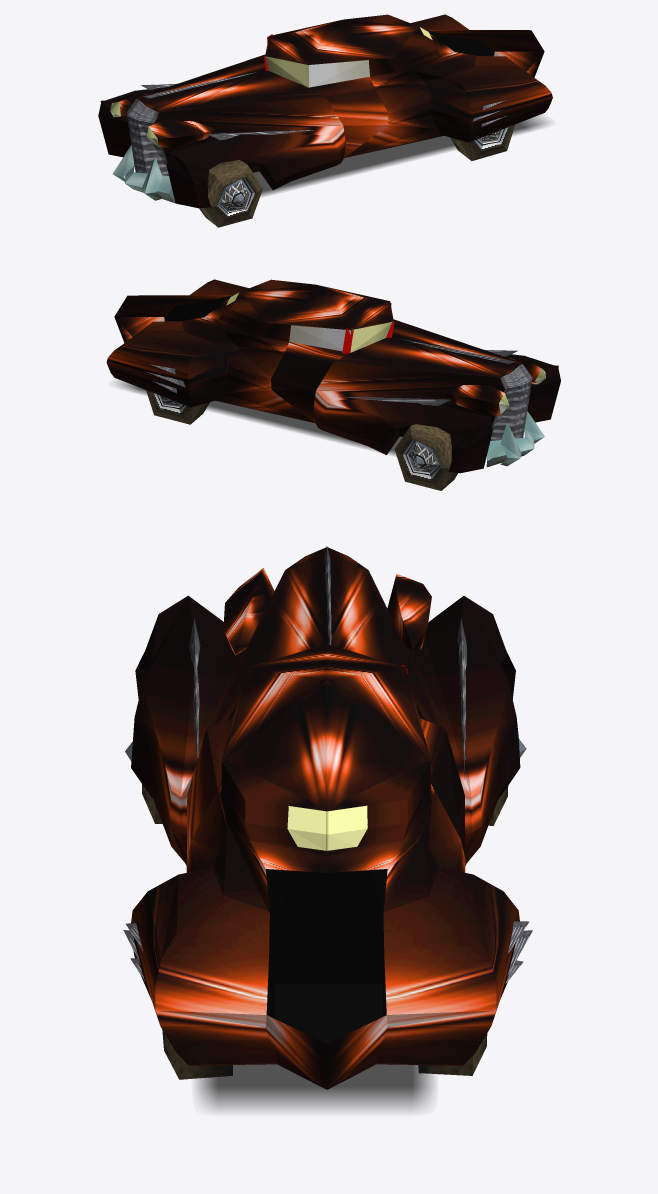
The model's file is limosine_1_new [Copy 2]_2844.glb.
3 views of the same model, one above another, from view 1: azimuth 30°, elevation 25°; view 2: azimuth 150°, elevation 25°; view 3: azimuth 270°, elevation 25° (orthographic). The views are drawn at different scales.
Visible parts, largest first — view 1: polySurfaceShape65, polySurfaceShape67, pPlaneShape2, vrlShape, polySurfaceShape66, pSphereShape14, hrlShape, pPlaneShape1, polySurfaceShape43, polySurfaceShape41, pSphereShape12, polySurfaceShape42 (+1 smaller); view 2: polySurfaceShape65, polySurfaceShape68, vrrShape, pPlaneShape2, polySurfaceShape66, pSphereShape12, hrrShape, pPlaneShape1, polySurfaceShape43, polySurfaceShape42, pConeShape2, pConeShape1 (+1 smaller); view 3: polySurfaceShape65, pPlaneShape1, pPlaneShape2, polySurfaceShape67, polySurfaceShape68, pSphereShape14, pSphereShape12, hrlShape.
Boxes of the visible parts, left/top/right/bottom form: polySurfaceShape65: left=98, top=14, right=552, bottom=208; polySurfaceShape67: left=308, top=60, right=388, bottom=157; pPlaneShape2: left=253, top=115, right=548, bottom=196; vrlShape: left=199, top=160, right=262, bottom=227; polySurfaceShape66: left=426, top=30, right=543, bottom=51; pSphereShape14: left=146, top=120, right=216, bottom=148; hrlShape: left=450, top=124, right=515, bottom=160; pPlaneShape1: left=426, top=30, right=494, bottom=56; polySurfaceShape43: left=125, top=163, right=175, bottom=203; polySurfaceShape41: left=141, top=157, right=162, bottom=200; pSphereShape12: left=110, top=93, right=147, bottom=117; polySurfaceShape42: left=113, top=145, right=134, bottom=181; polySurfaceShape65: left=106, top=279, right=560, bottom=473; polySurfaceShape68: left=271, top=325, right=350, bottom=422; vrrShape: left=394, top=424, right=457, bottom=490; pPlaneShape2: left=116, top=380, right=402, bottom=455; polySurfaceShape66: left=114, top=295, right=233, bottom=316; pSphereShape12: left=444, top=385, right=509, bottom=416; hrrShape: left=146, top=390, right=209, bottom=424; pPlaneShape1: left=164, top=295, right=232, bottom=321; polySurfaceShape43: left=486, top=430, right=534, bottom=467; polySurfaceShape42: left=500, top=422, right=521, bottom=466; pConeShape2: left=338, top=396, right=450, bottom=405; pConeShape1: left=400, top=338, right=515, bottom=363; polySurfaceShape65: left=131, top=547, right=520, bottom=1089; pPlaneShape1: left=265, top=869, right=387, bottom=1043; pPlaneShape2: left=196, top=1064, right=433, bottom=1110; polySurfaceShape67: left=187, top=718, right=233, bottom=857; polySurfaceShape68: left=419, top=718, right=465, bottom=857; pSphereShape14: left=223, top=568, right=274, bottom=655; pSphereShape12: left=387, top=574, right=431, bottom=650; hrlShape: left=162, top=1030, right=232, bottom=1079.
Bounding box in the file's own units: 1.07 × 0.2553 × 0.3659.
45 materials, 28 textured.
